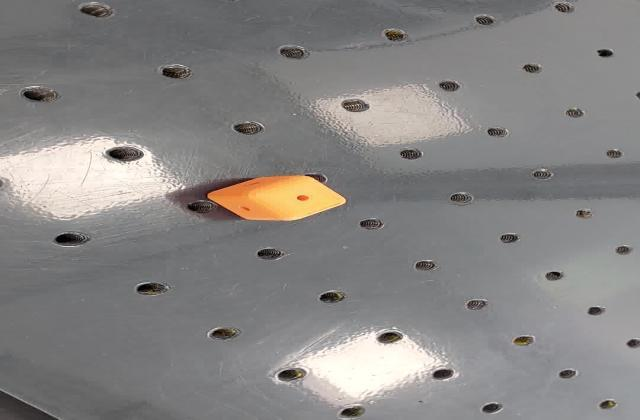cube: (204, 174, 350, 224)
